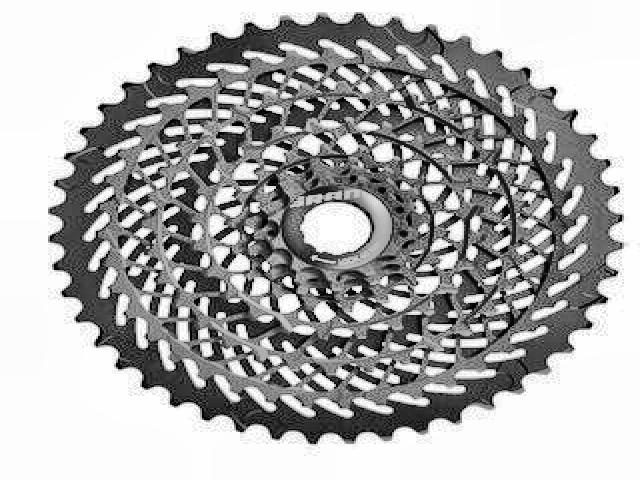cassette: (47, 10, 627, 448)
